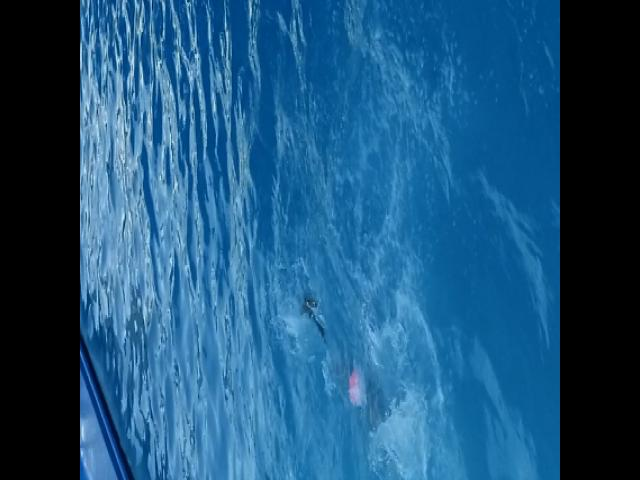drowning: (300, 296, 396, 466)
